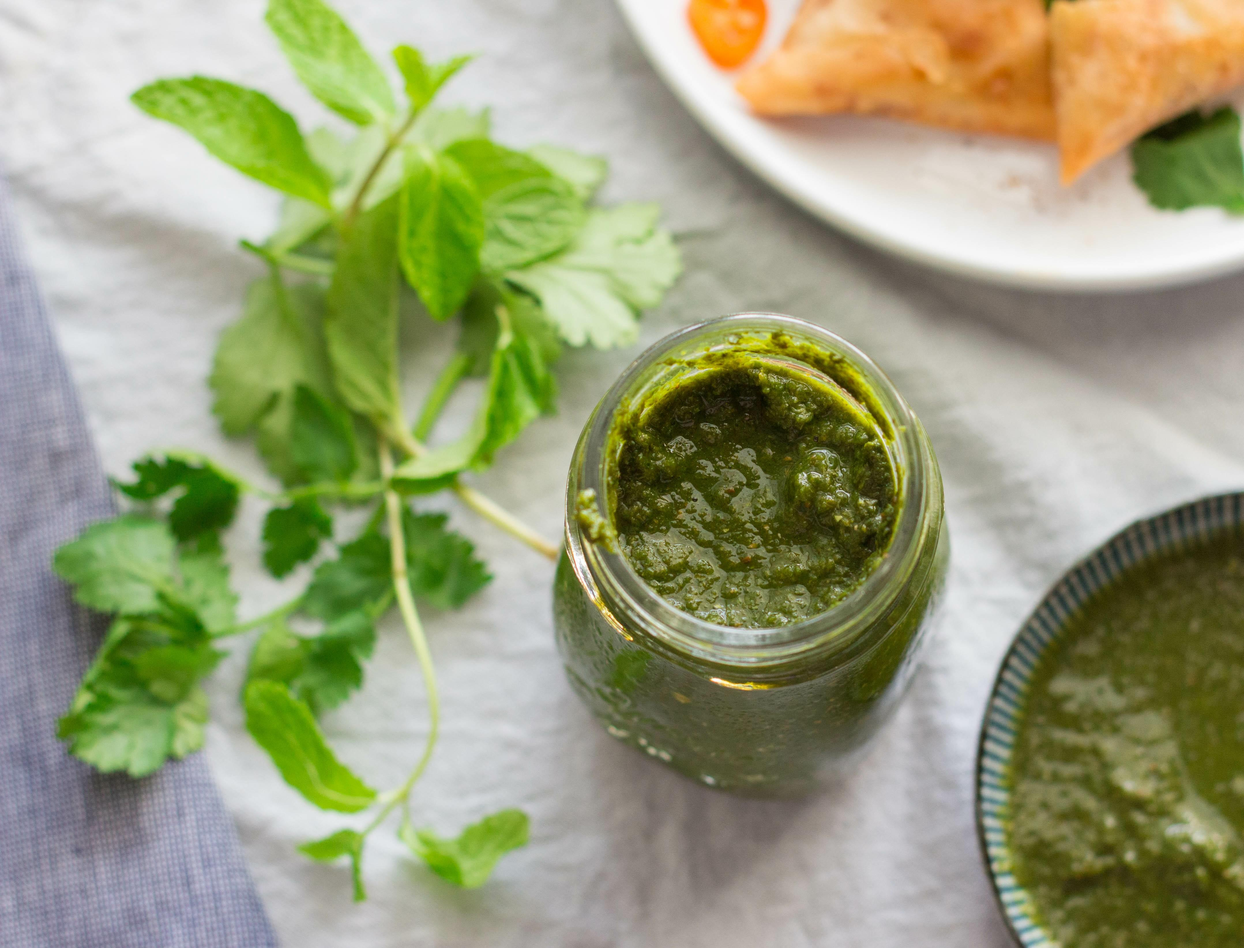GreenChutney: (555, 362, 947, 790), (1005, 526, 1244, 948)
Samosa: (740, 0, 1056, 146), (1051, 2, 1244, 184)
